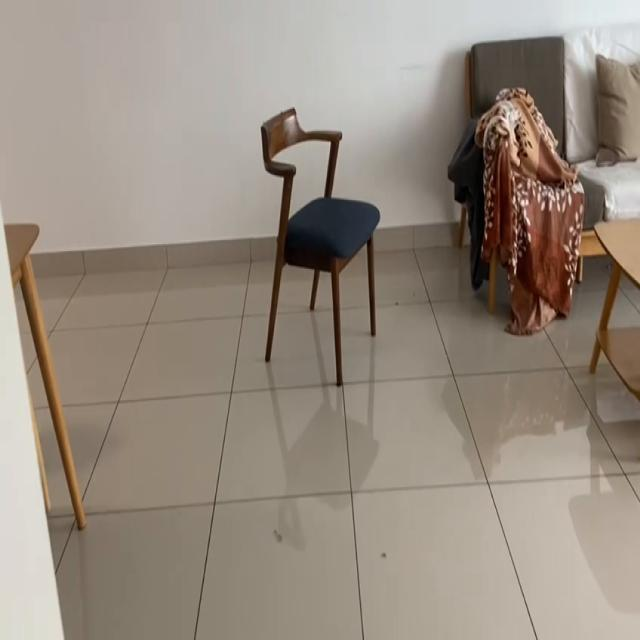Chair: (248, 79, 390, 406)
